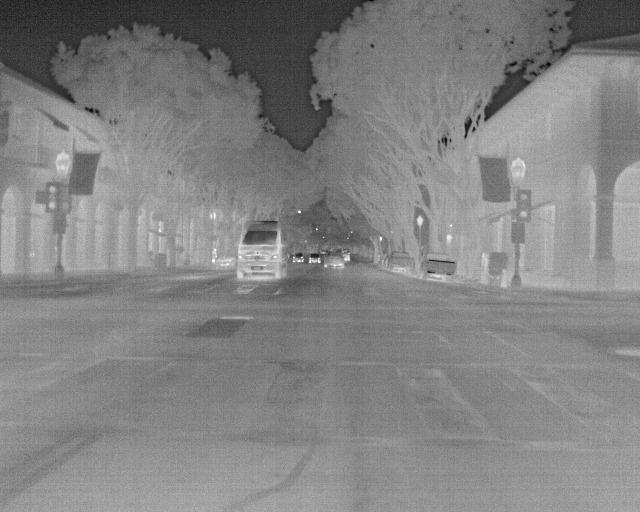car: (236, 221, 288, 280), (415, 252, 458, 281), (387, 250, 416, 273), (323, 250, 344, 270), (212, 254, 238, 270), (289, 250, 304, 265), (308, 250, 323, 265)
